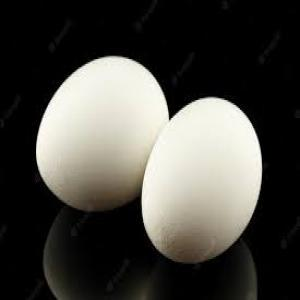Egg: (35, 56, 170, 212), (142, 96, 262, 264)
